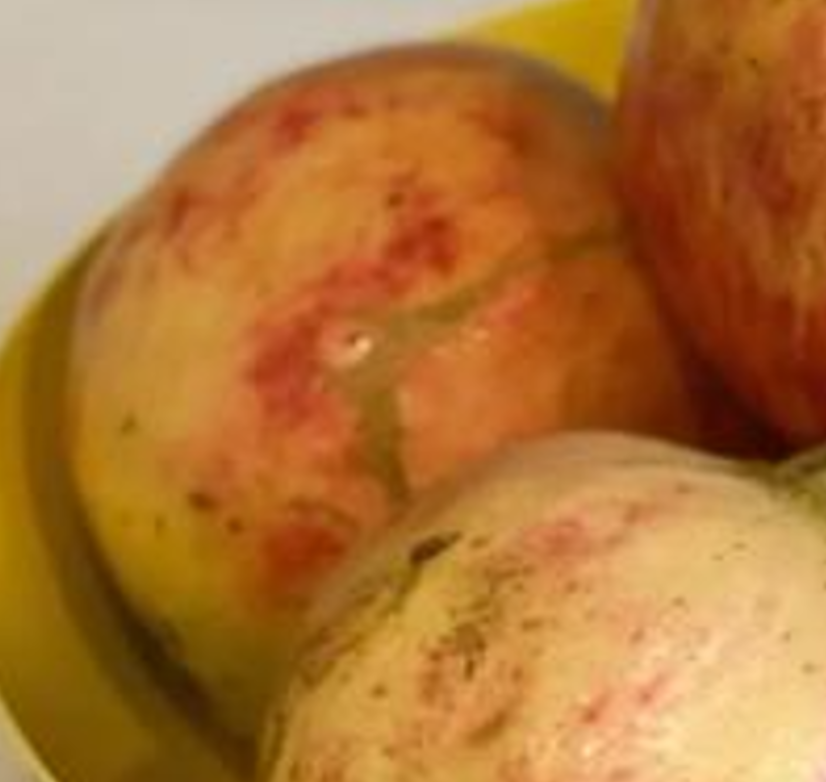pomegranate_B: (61, 42, 746, 742)
